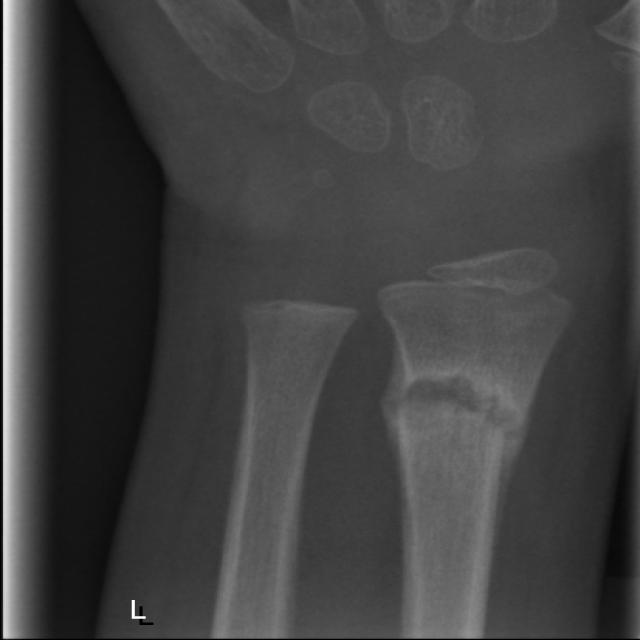radius fracture: (365, 336, 560, 594)
